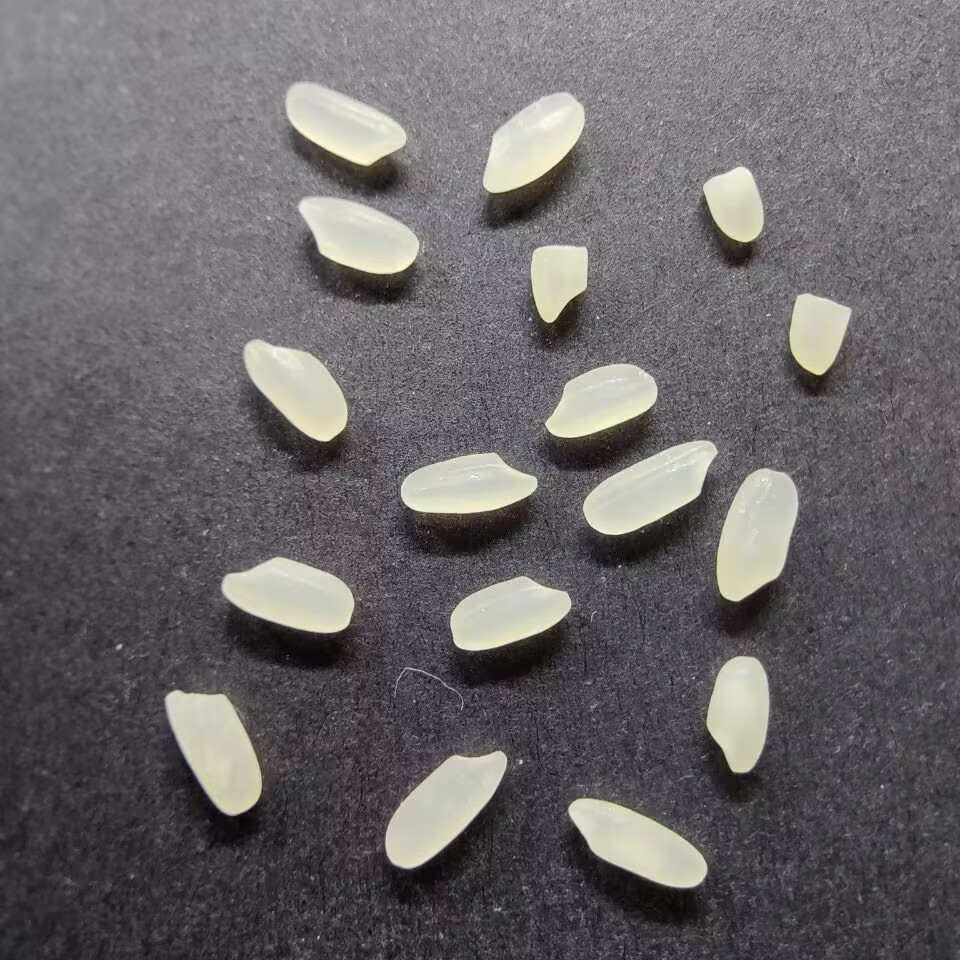broken: (787, 291, 851, 377), (700, 166, 765, 244), (530, 243, 589, 325)
rice: (382, 747, 509, 870), (566, 798, 710, 891), (581, 439, 720, 535), (161, 687, 263, 817), (715, 466, 798, 604), (240, 337, 349, 442), (219, 552, 355, 635), (284, 81, 408, 167), (481, 91, 585, 193), (296, 194, 418, 275), (448, 575, 573, 651), (542, 362, 660, 440), (398, 451, 538, 514), (703, 655, 770, 775)
